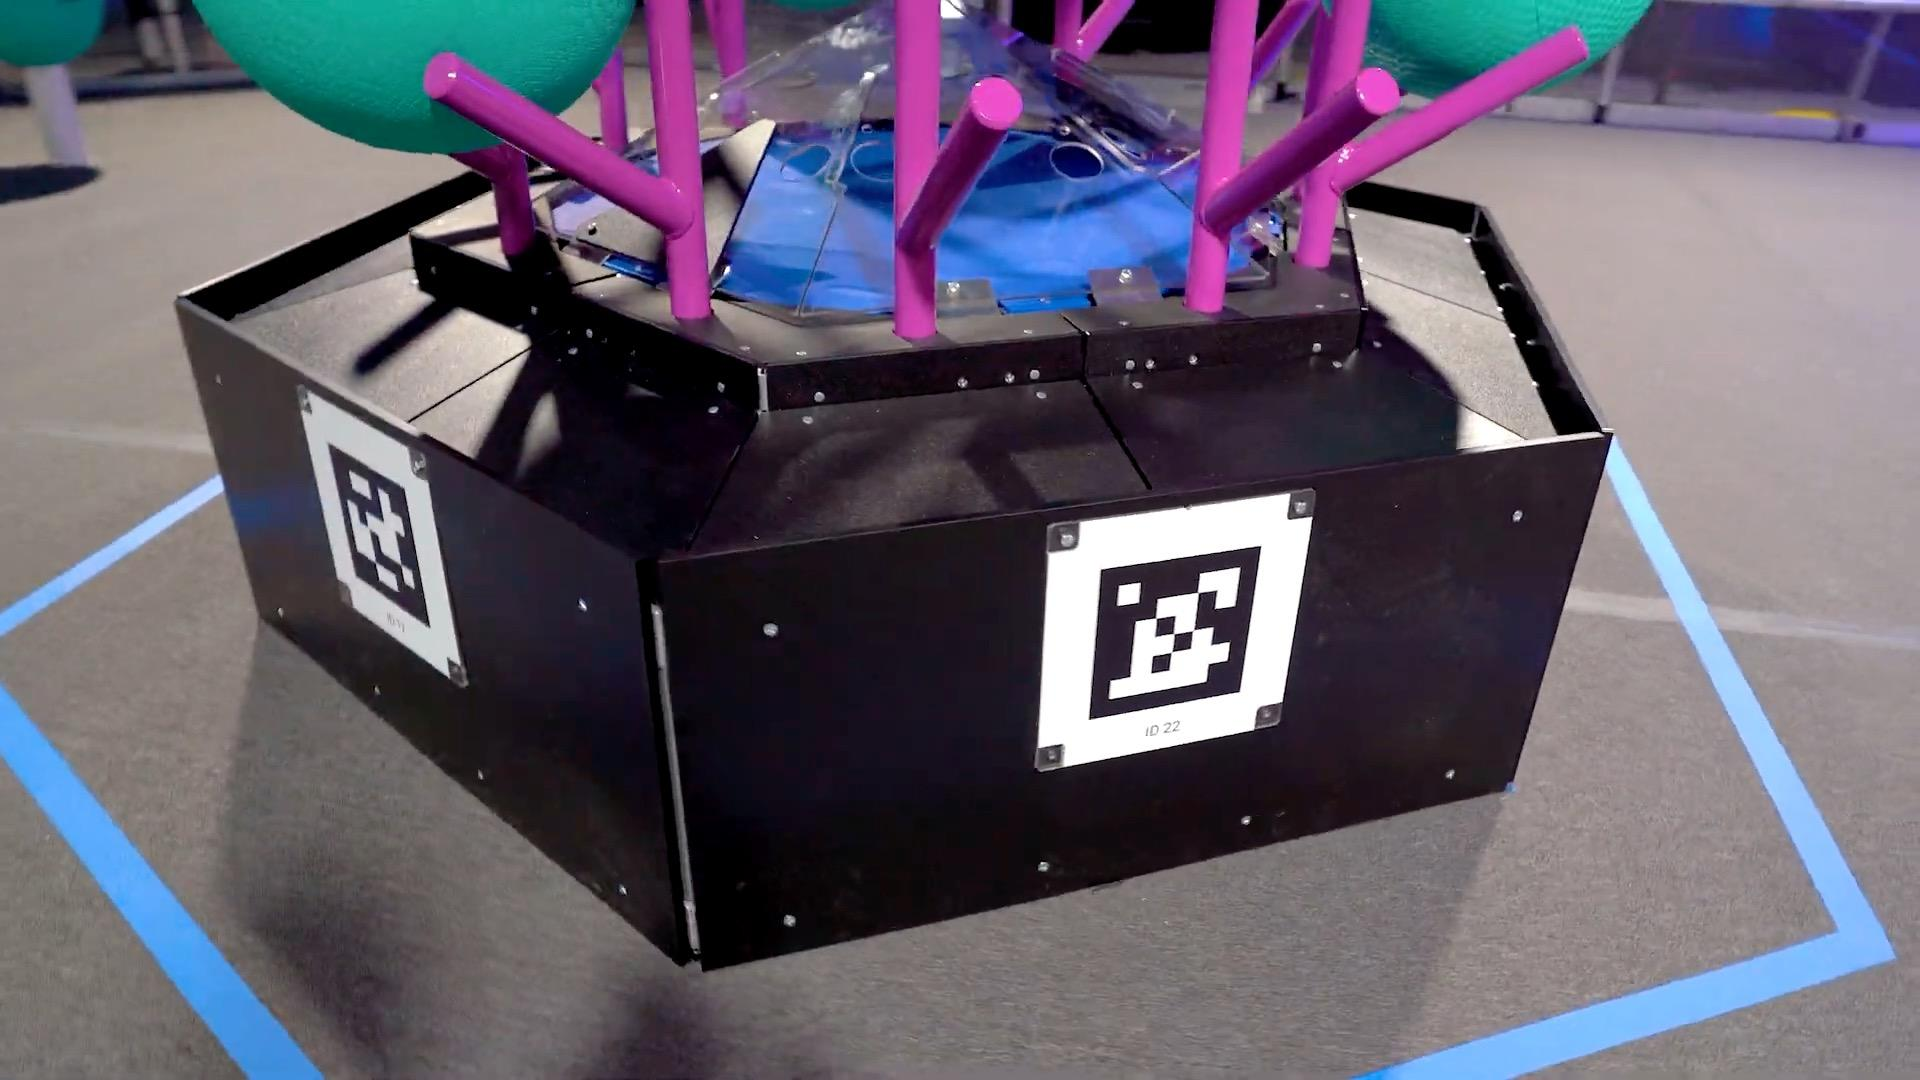ALGAE: (193, 0, 636, 157), (1346, 0, 1655, 107), (0, 0, 109, 67)
CORAL: (15, 66, 87, 169)
